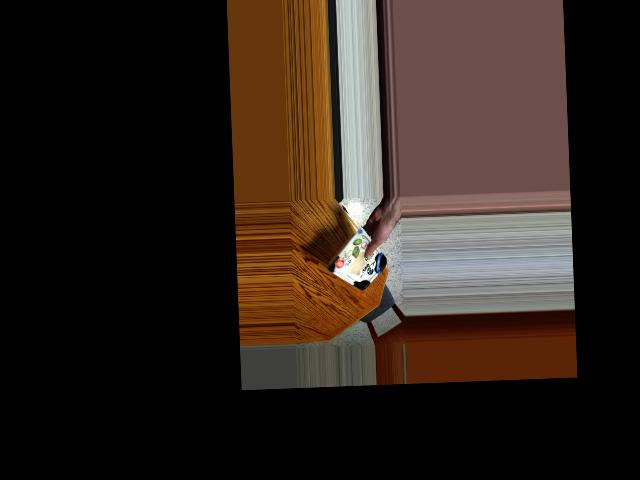cheese: (335, 232, 380, 289)
